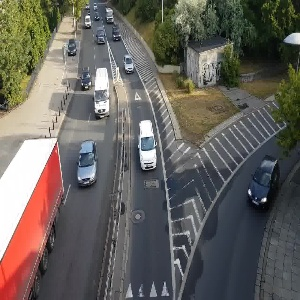car: (238, 154, 288, 208), (74, 137, 102, 191)
van: (94, 65, 111, 120)
